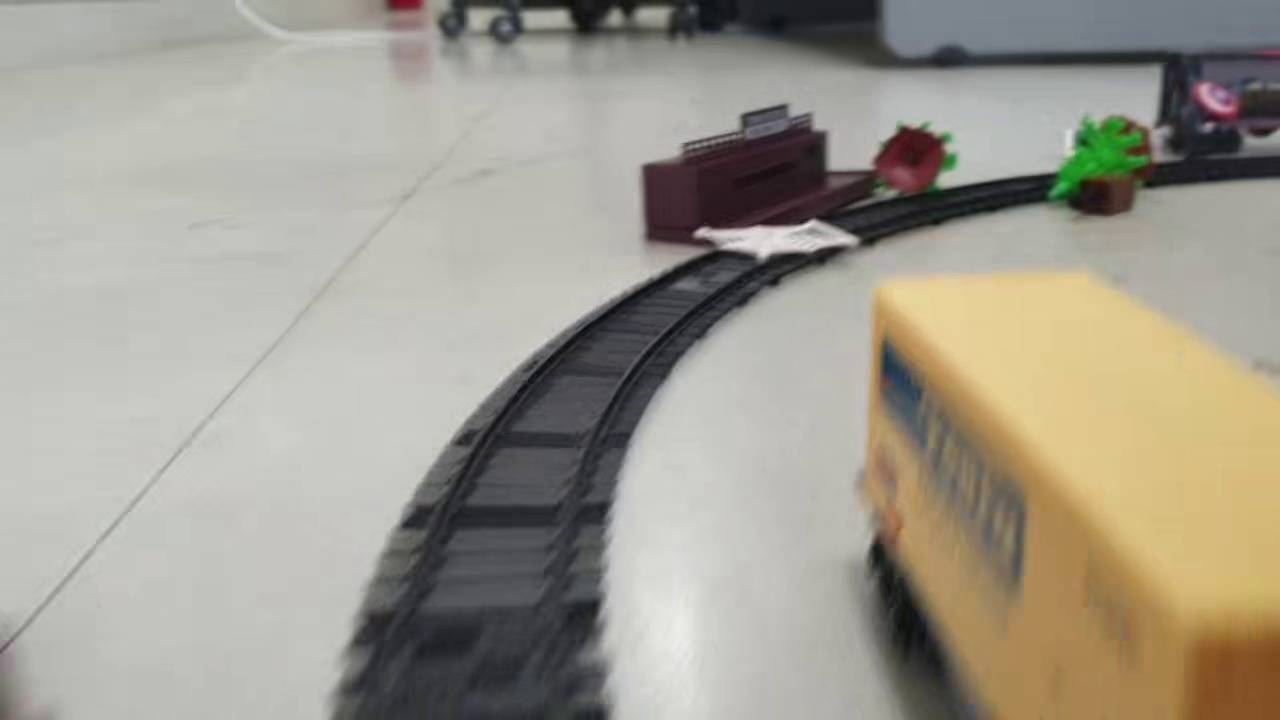box: (1068, 173, 1137, 215)
people: (1163, 71, 1238, 151)
tree: (1046, 115, 1156, 201), (874, 124, 957, 197)
web: (688, 216, 863, 260)
